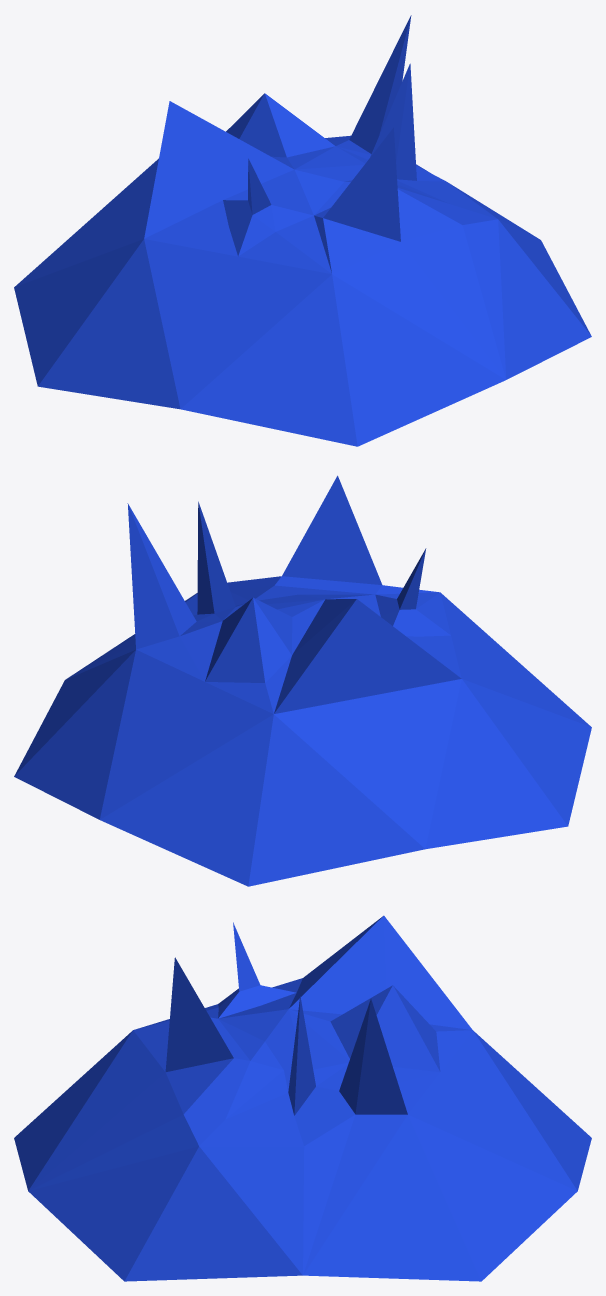
File: shield2.fbx
3 renders of one model, top to bottom at view 1: azimuth 30°, elevation 25°; view 2: azimuth 150°, elevation 25°; view 3: azimuth 270°, elevation 25°, orthographic. The views are drawn at different scales.
Parts seen in each view (by area): view 1: Shield; view 2: Shield; view 3: Shield.
Part boxes in pixels (box(x1,y1,x2,y2)): Shield: box(14, 15, 591, 446); Shield: box(14, 475, 591, 886); Shield: box(14, 915, 591, 1281).
Size of the model in its own units: 175 by 82.4 by 170.
